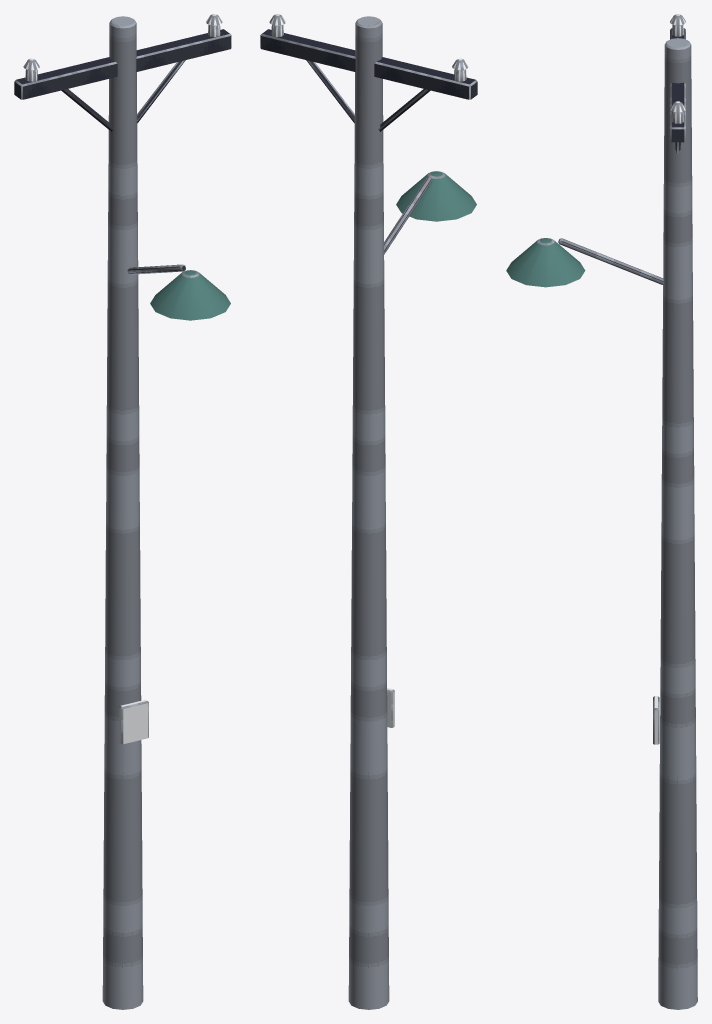
The model's file is cn_utility_pole_2.glb.
The picture shows the model from 3 angles, left to right: view 1: azimuth 30°, elevation 25°; view 2: azimuth 150°, elevation 25°; view 3: azimuth 270°, elevation 25°; orthographic projection. The views are drawn at different scales.
Visible parts, largest first — view 1: cn_utility_pole_3; view 2: cn_utility_pole_3; view 3: cn_utility_pole_3.
Boxes of the visible parts, x1,y1,x2,y2 form: cn_utility_pole_3: [14, 14, 231, 1009]; cn_utility_pole_3: [260, 14, 477, 1009]; cn_utility_pole_3: [506, 14, 697, 1009].
Size of the model in its own units: 1.8 by 8 by 1.45.
Materials: 5 (5 with a texture image).
